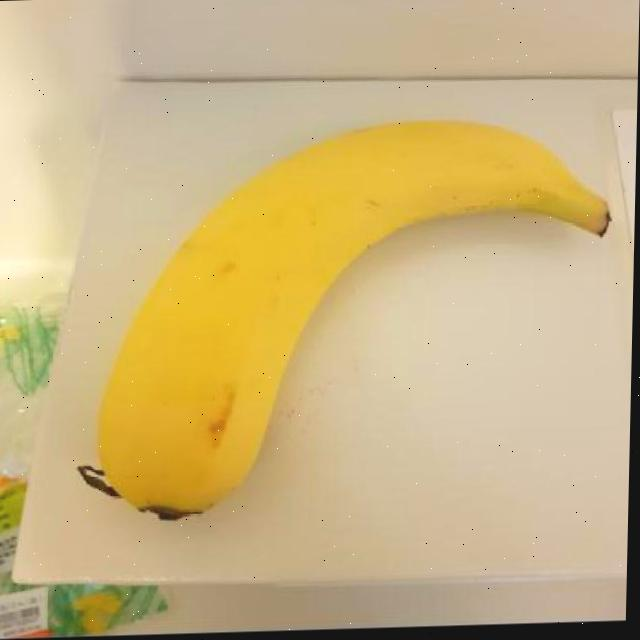banana: (78, 108, 620, 529)
